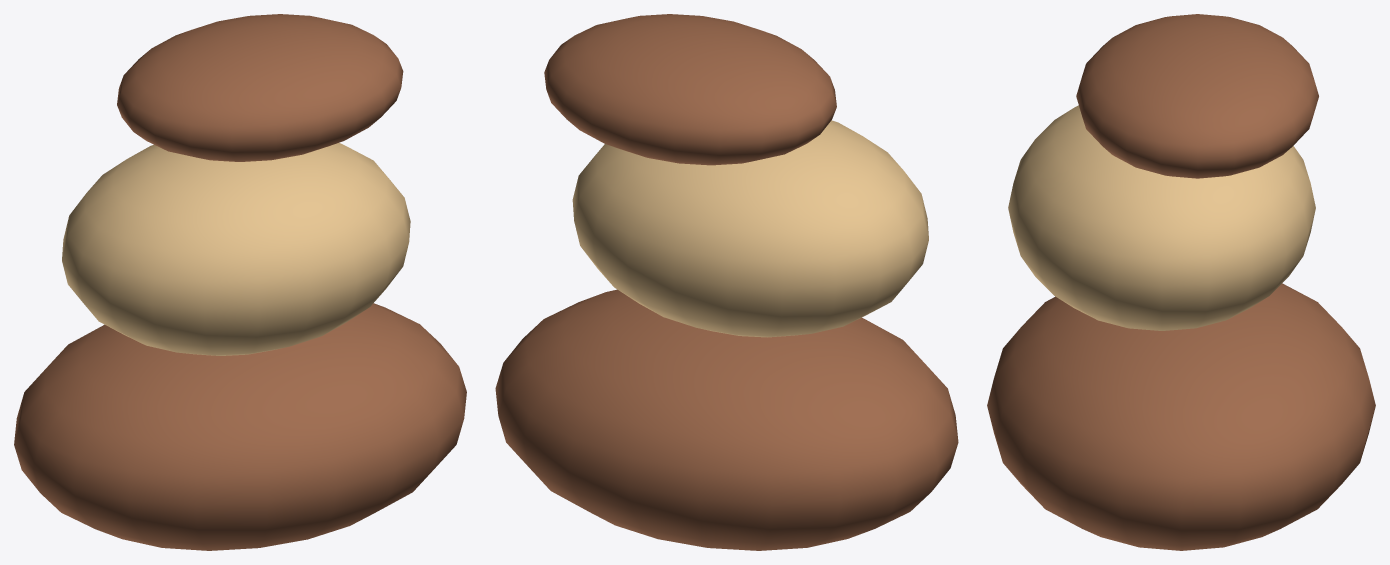
The picture shows the model from 3 angles, left to right: view 1: azimuth 30°, elevation 25°; view 2: azimuth 150°, elevation 25°; view 3: azimuth 270°, elevation 25°; orthographic projection. The views are drawn at different scales.
Parts seen in each view (by area): view 1: stone-bottom, stone-middle, stone-top; view 2: stone-bottom, stone-middle, stone-top; view 3: stone-bottom, stone-middle, stone-top.
Boxes of the visible parts, bbox=[...] form: stone-bottom: bbox=[14, 303, 466, 550]; stone-middle: bbox=[62, 143, 410, 355]; stone-top: bbox=[117, 14, 403, 161]; stone-bottom: bbox=[495, 289, 958, 550]; stone-middle: bbox=[572, 120, 928, 337]; stone-top: bbox=[544, 14, 836, 165]; stone-bottom: bbox=[987, 283, 1375, 550]; stone-middle: bbox=[1008, 105, 1315, 330]; stone-top: bbox=[1076, 14, 1318, 178].
Bounding box in the file's own units: 0.15 × 0.1625 × 0.12.
